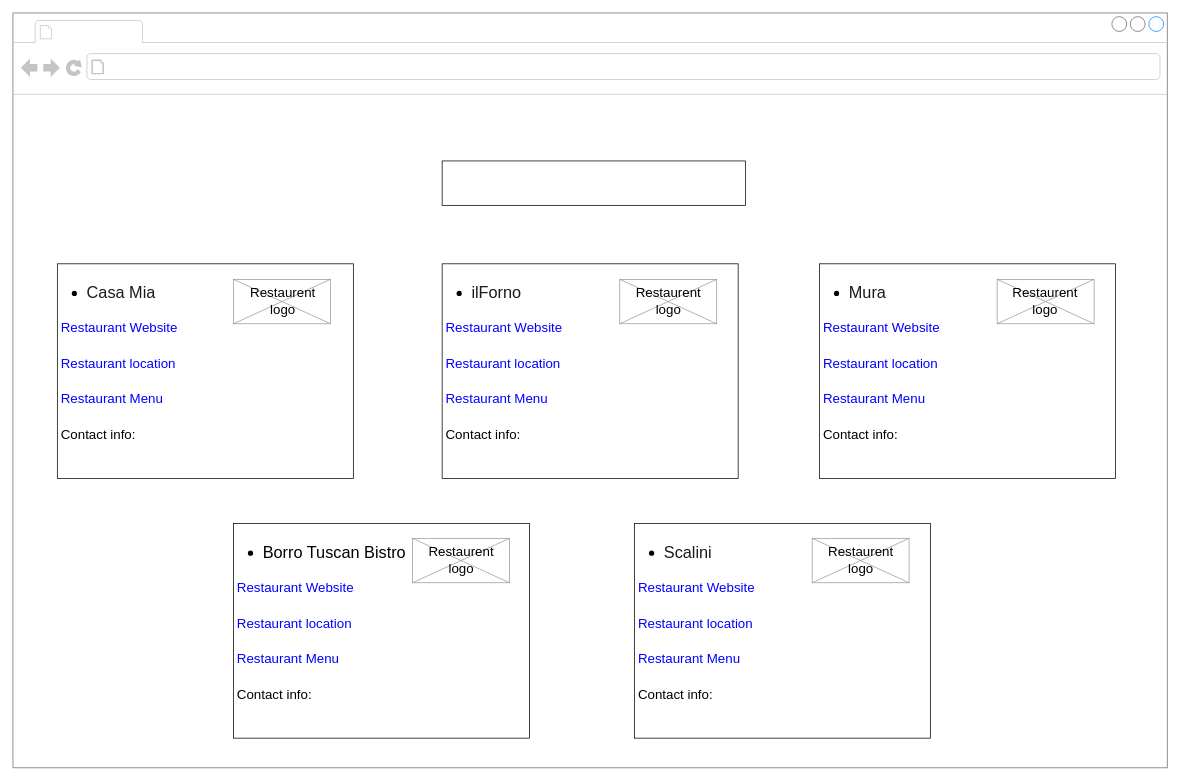
The diagram is 1180 pixels wide and 784 high, and some of its shapes have lost their labels. The centre of each missing label's shape, as x and y in pixels:
https://www.draw.io: the point at 201,67
ITALIAN CUISINE: the point at 593,182
Page 1: the point at 98,31
